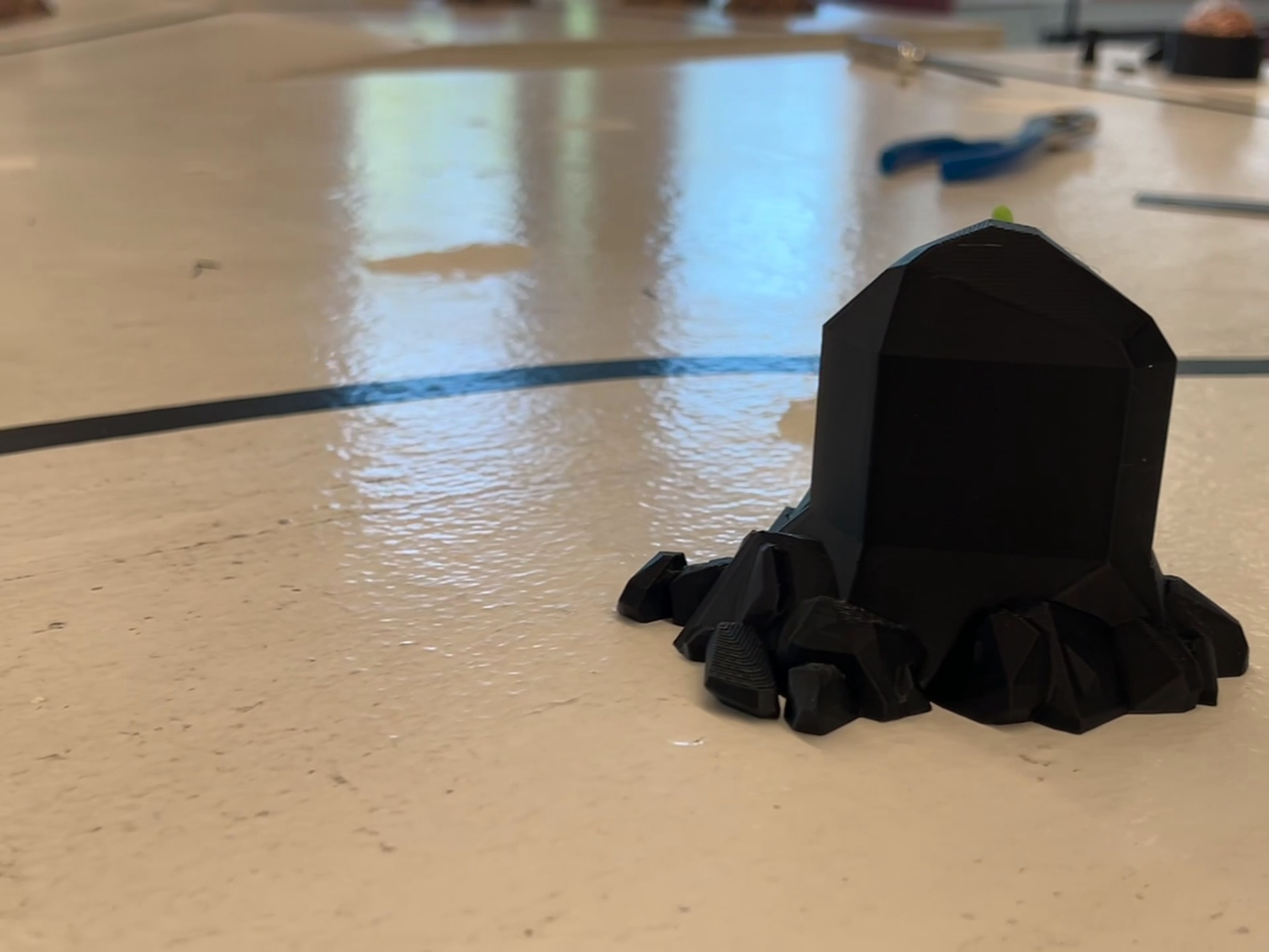teletubby: (991, 206, 1013, 222)
